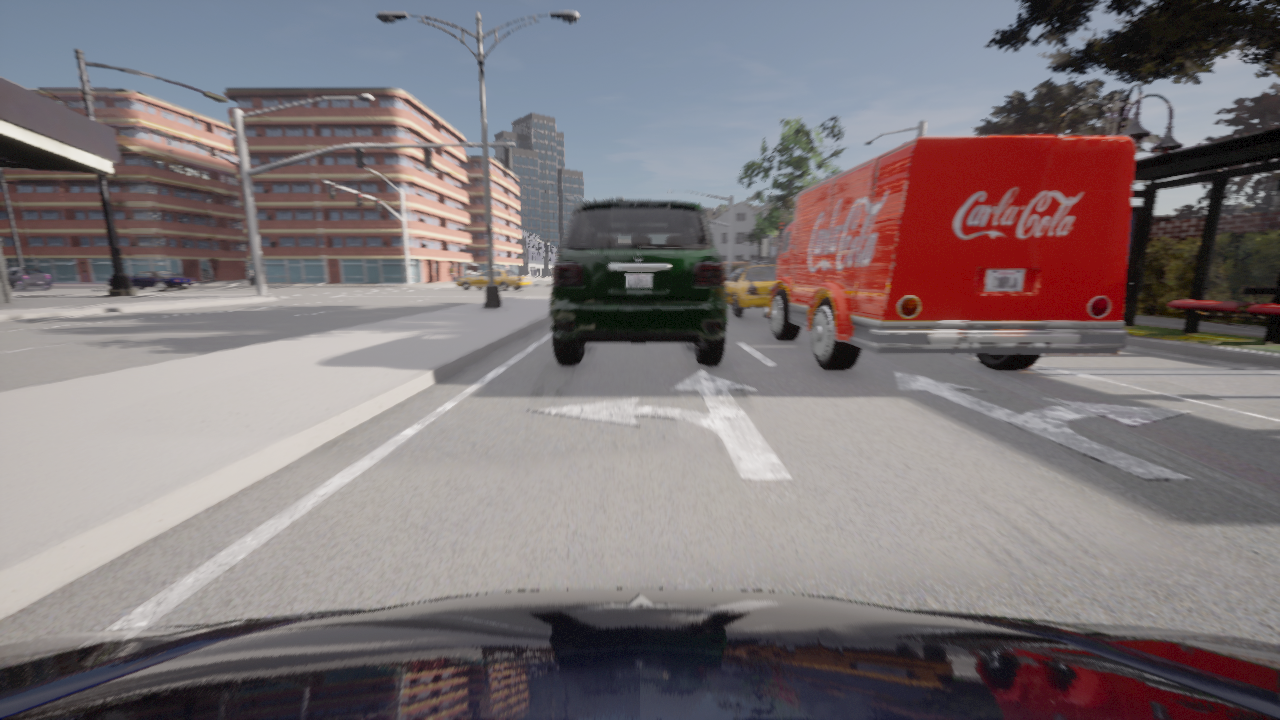cyclist: (0, 588, 1279, 719), (759, 135, 1135, 370), (550, 200, 727, 364), (725, 260, 776, 316), (455, 268, 532, 291), (106, 272, 196, 290), (6, 268, 52, 289)
pedestrian: (449, 265, 454, 283)
